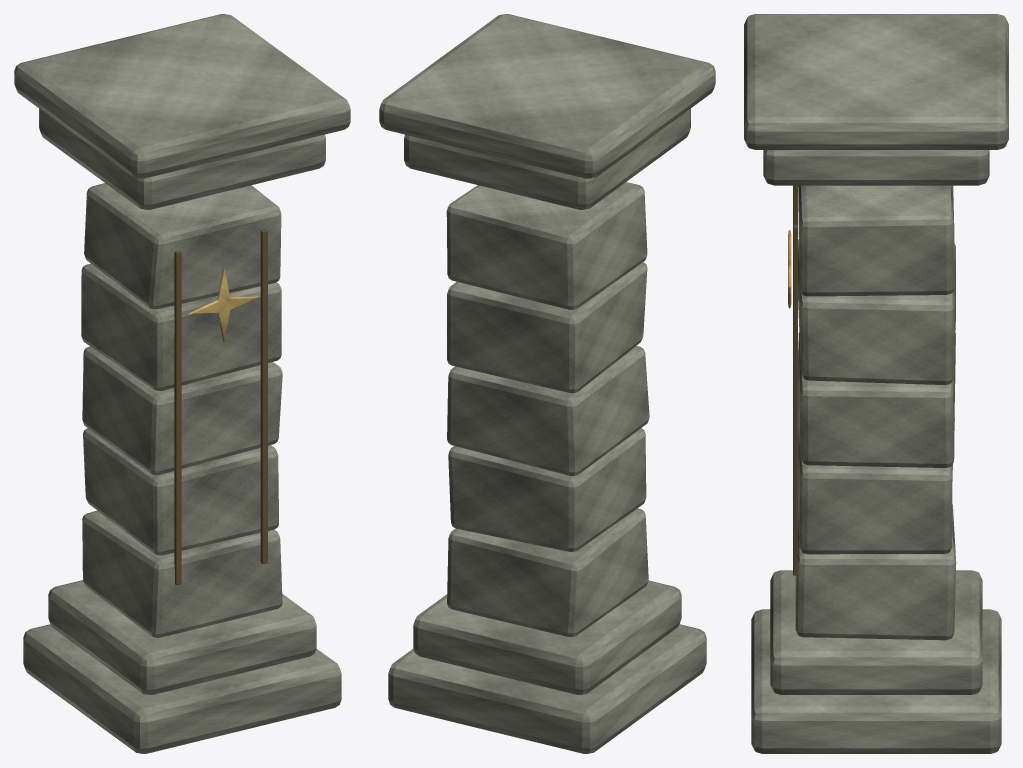
File: pillar.glb
3 views of the same model, side by side, from view 1: azimuth 30°, elevation 25°; view 2: azimuth 150°, elevation 25°; view 3: azimuth 270°, elevation 25° (orthographic). The views are drawn at different scales.
Parts seen in each view (by area): view 1: Pillar_capital.003, Pillar_capital, Pillar_drum.004, Pillar_drum, Pillar_drum.002, Pillar_capital.001, Pillar_drum.001, Pillar_drum.003, Pillar_capital.002, Pillar_brass_line.001, Pillar_brass_line, Pillar_celestial_mark; view 2: Pillar_capital.003, Pillar_drum.004, Pillar_capital, Pillar_drum, Pillar_drum.003, Pillar_drum.002, Pillar_capital.001, Pillar_drum.001, Pillar_capital.002; view 3: Pillar_capital.003, Pillar_capital, Pillar_drum.004, Pillar_capital.001, Pillar_drum.003, Pillar_drum, Pillar_drum.001, Pillar_drum.002, Pillar_capital.002, Pillar_brass_line.001.
Part boxes in pixels (left/top/right/bottom): Pillar_capital.003: left=14, top=14, right=350, bottom=178; Pillar_capital: left=23, top=624, right=341, bottom=753; Pillar_drum.004: left=84, top=183, right=281, bottom=309; Pillar_drum: left=82, top=510, right=282, bottom=637; Pillar_drum.002: left=82, top=346, right=282, bottom=475; Pillar_capital.001: left=48, top=580, right=316, bottom=694; Pillar_drum.001: left=83, top=428, right=278, bottom=555; Pillar_drum.003: left=81, top=263, right=281, bottom=390; Pillar_capital.002: left=39, top=108, right=325, bottom=209; Pillar_brass_line.001: left=260, top=229, right=267, bottom=563; Pillar_brass_line: left=174, top=250, right=181, bottom=585; Pillar_celestial_mark: left=188, top=268, right=259, bottom=342; Pillar_capital.003: left=379, top=14, right=715, bottom=178; Pillar_drum.004: left=446, top=182, right=647, bottom=309; Pillar_capital: left=388, top=624, right=706, bottom=753; Pillar_drum: left=447, top=508, right=648, bottom=636; Pillar_drum.003: left=447, top=262, right=647, bottom=393; Pillar_drum.002: left=447, top=346, right=649, bottom=475; Pillar_capital.001: left=413, top=580, right=681, bottom=694; Pillar_drum.001: left=448, top=428, right=646, bottom=551; Pillar_capital.002: left=404, top=108, right=690, bottom=209; Pillar_capital.003: left=744, top=14, right=1008, bottom=149; Pillar_capital: left=751, top=609, right=1001, bottom=753; Pillar_drum.004: left=798, top=185, right=954, bottom=296; Pillar_capital.001: left=770, top=570, right=982, bottom=694; Pillar_drum.003: left=798, top=239, right=955, bottom=385; Pillar_drum: left=795, top=504, right=956, bottom=640; Pillar_drum.001: left=798, top=417, right=954, bottom=554; Pillar_drum.002: left=798, top=332, right=955, bottom=467; Pillar_capital.002: left=763, top=150, right=989, bottom=185; Pillar_brass_line.001: left=793, top=224, right=797, bottom=575.
Size of the model in its own units: 1.32 by 3.52 by 1.32.
Materials: 3 (2 with a texture image).
